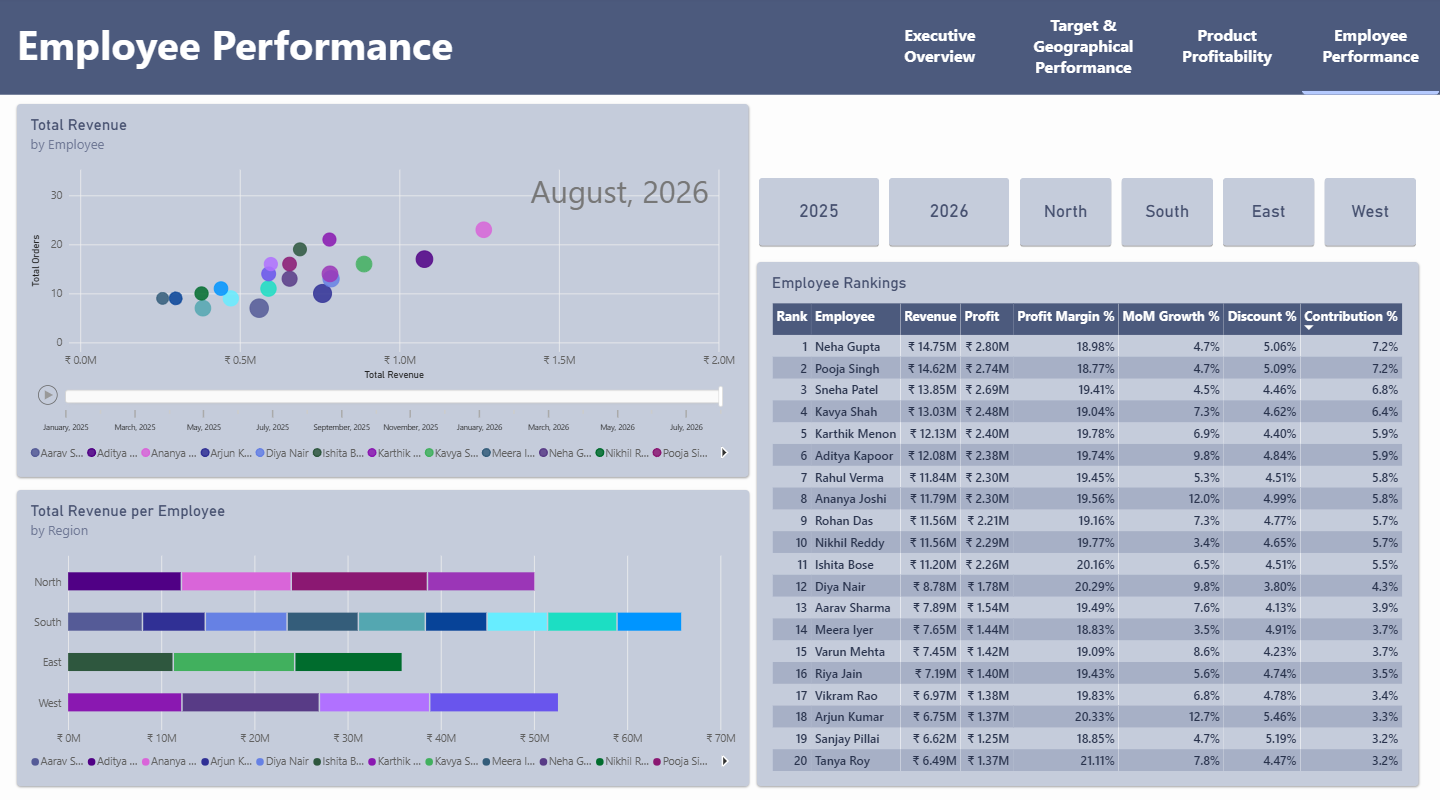

What the dashboard file says about the page in this screenshot:
{"tool":"powerbi","page":{"name":"Employee Performance","canvas":[1920,1080],"ordinal":3},"visuals":[{"type":"scatterChart","title":"Total Revenue","fields":{"Play":["tblDimDate.YearMonth"],"Series":["tblDimEmployee.Employee"],"Size":["tblFactSales.AOV"],"X":["tblFactSales.TotalNet"],"Y":["tblFactSales.TotalOrder"]},"box":[26.3,143,973.1,496],"z":0},{"type":"tableEx","title":"Employee Rankings","fields":{"Values":["tblDimEmployee.EmployeeContributionRank","tblDimEmployee.Employee","tblFactSales.TotalNet","tblFactSales.TotalProfit","tblFactSales.Margin%","tblFactSales.RevenueMoM %","tblFactSales.DiscToGross%","tblDimEmployee.EmployeeContribution%"]},"box":[1010.8,352.5,880.5,696.9],"z":1000},{"type":"barChart","title":"Total Revenue per Employee","fields":{"Category":["tblDimRegion.Region"],"Series":["tblDimEmployee.Employee"],"Y":["tblFactSales.TotalNet"]},"box":[26.6,655.7,973.6,393.7],"z":2000},{"type":"advancedSlicerVisual","fields":{"Values":["tblDimDate.Year"]},"box":[1010.8,238.1,339.2,95.8],"z":3000},{"type":"advancedSlicerVisual","fields":{"Values":["tblDimRegion.Region"]},"box":[1358,238.1,533.3,95.8],"z":4000},{"type":"shape","box":[0,0,1920.6,130.3],"z":5000},{"type":"pageNavigator","box":[1162.5,0,758.1,130.3],"z":6000},{"type":"textbox","box":[26.6,25.3,732.9,117],"z":7000}]}

Visuals, with their boxes in screenshot pixels (x1, y1, x2, y2), scaled from the page's 1920x1080 canvas onto the 1440x800 screenshot:
"Total Revenue" scatterChart: x1=20 y1=106 x2=750 y2=473
"Employee Rankings" tableEx: x1=758 y1=261 x2=1418 y2=777
"Total Revenue per Employee" barChart: x1=20 y1=486 x2=750 y2=777
advancedSlicerVisual - tblDimDate.Year: x1=758 y1=176 x2=1012 y2=247
advancedSlicerVisual - tblDimRegion.Region: x1=1018 y1=176 x2=1418 y2=247
shape: x1=0 y1=0 x2=1439 y2=97
pageNavigator: x1=872 y1=0 x2=1439 y2=97
textbox: x1=20 y1=19 x2=570 y2=105
